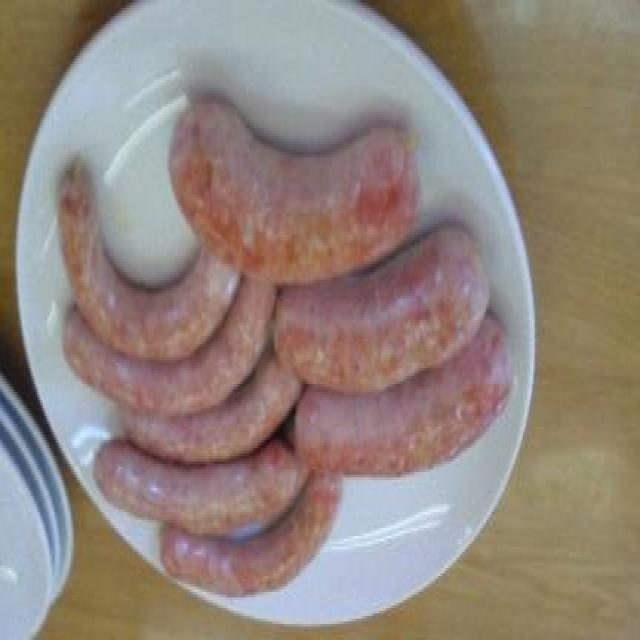Sausage: (62, 88, 514, 602)
